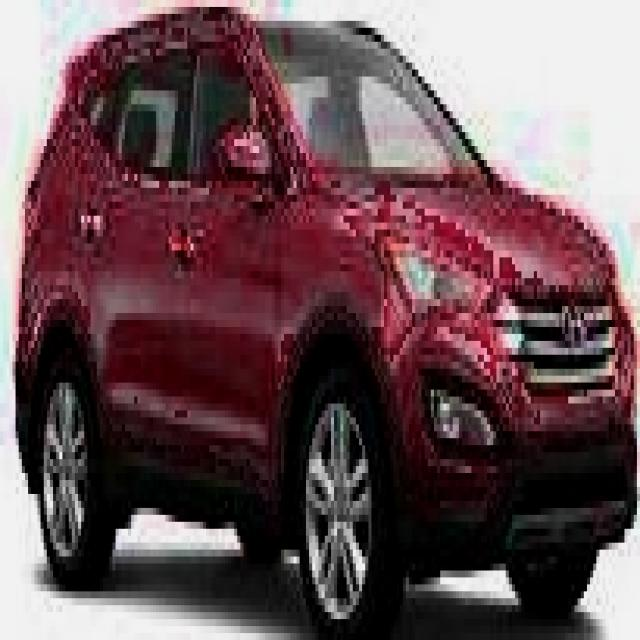maroon: (17, 28, 629, 536)
